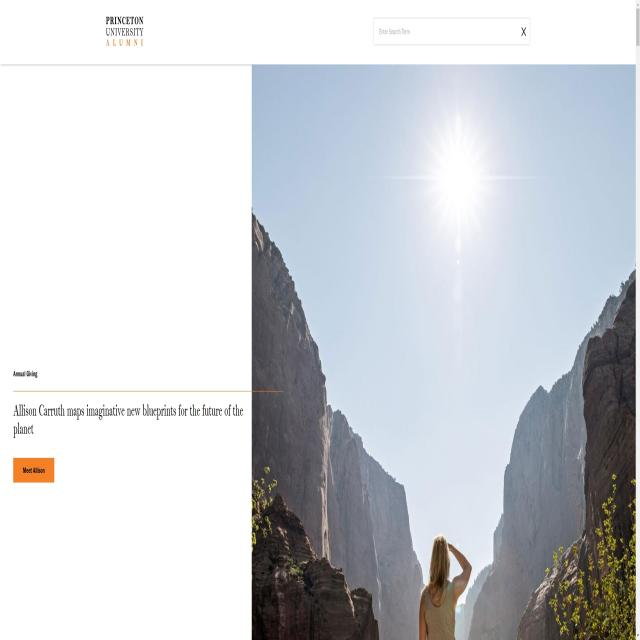search: (372, 16, 532, 52)
